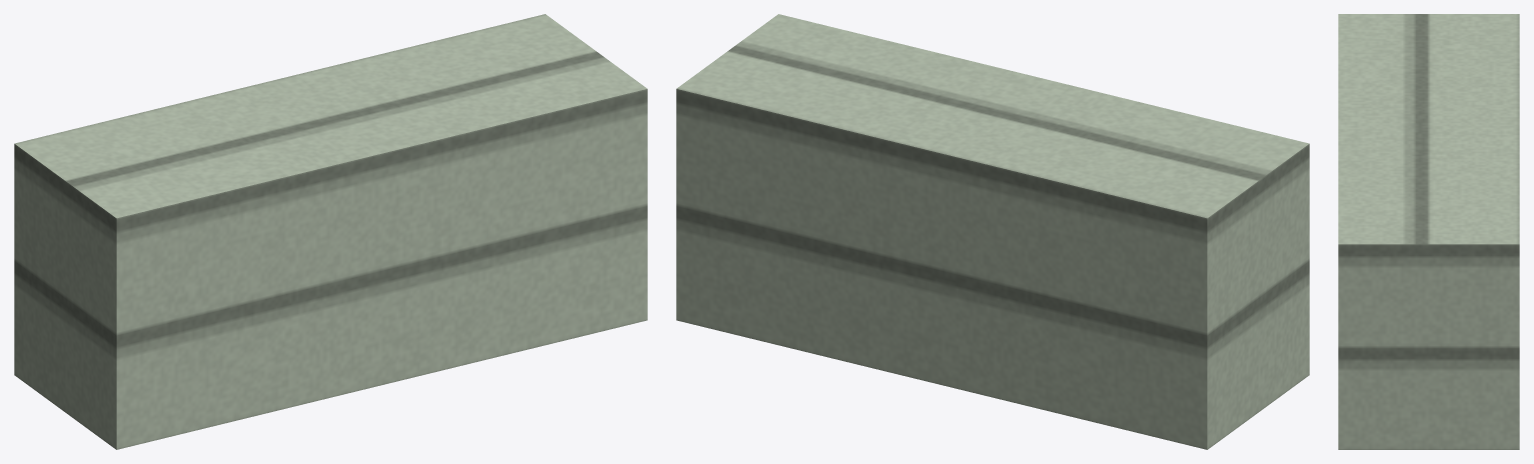
The model's file is books_shelf_fill.glb.
The picture shows the model from 3 angles, left to right: view 1: azimuth 30°, elevation 25°; view 2: azimuth 150°, elevation 25°; view 3: azimuth 270°, elevation 25°; orthographic projection. The views are drawn at different scales.
Visible parts, largest first — view 1: books_shelf_fill-col; view 2: books_shelf_fill-col; view 3: books_shelf_fill-col.
Part boxes in pixels (<box>): books_shelf_fill-col: <box>14,14,647,449</box>; books_shelf_fill-col: <box>676,14,1309,449</box>; books_shelf_fill-col: <box>1338,14,1519,449</box>.
Size of the model in its own units: 0.6 by 0.25 by 0.2.
1 material, 1 textured.
